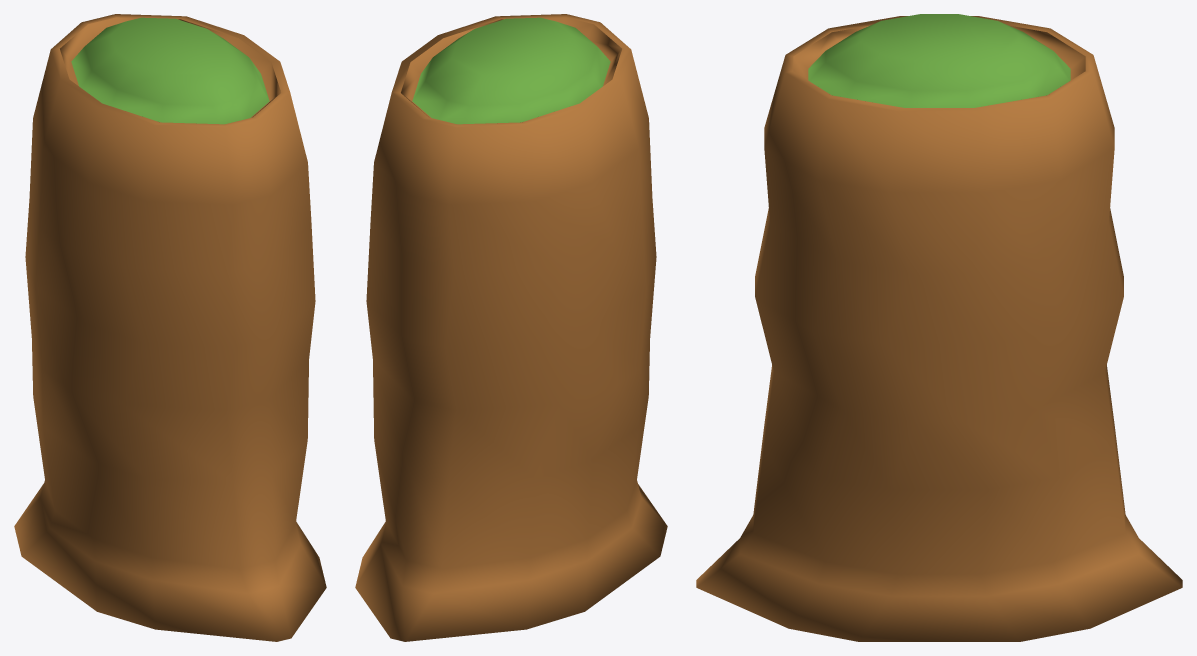
Rendered from jute zak.fbx.
The picture shows the model from 3 angles, left to right: view 1: azimuth 30°, elevation 25°; view 2: azimuth 150°, elevation 25°; view 3: azimuth 270°, elevation 25°; orthographic projection. The views are drawn at different scales.
Visible parts, largest first — view 1: Cube; view 2: Cube; view 3: Cube.
Boxes of the visible parts, x1=… form: Cube: x1=14, y1=14, x2=326, y2=641; Cube: x1=355, y1=14, x2=667, y2=641; Cube: x1=696, y1=14, x2=1182, y2=641.
Size of the model in its own units: 0.2681 by 0.4502 by 0.5576.
